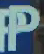Parking: (3, 2, 40, 53)
